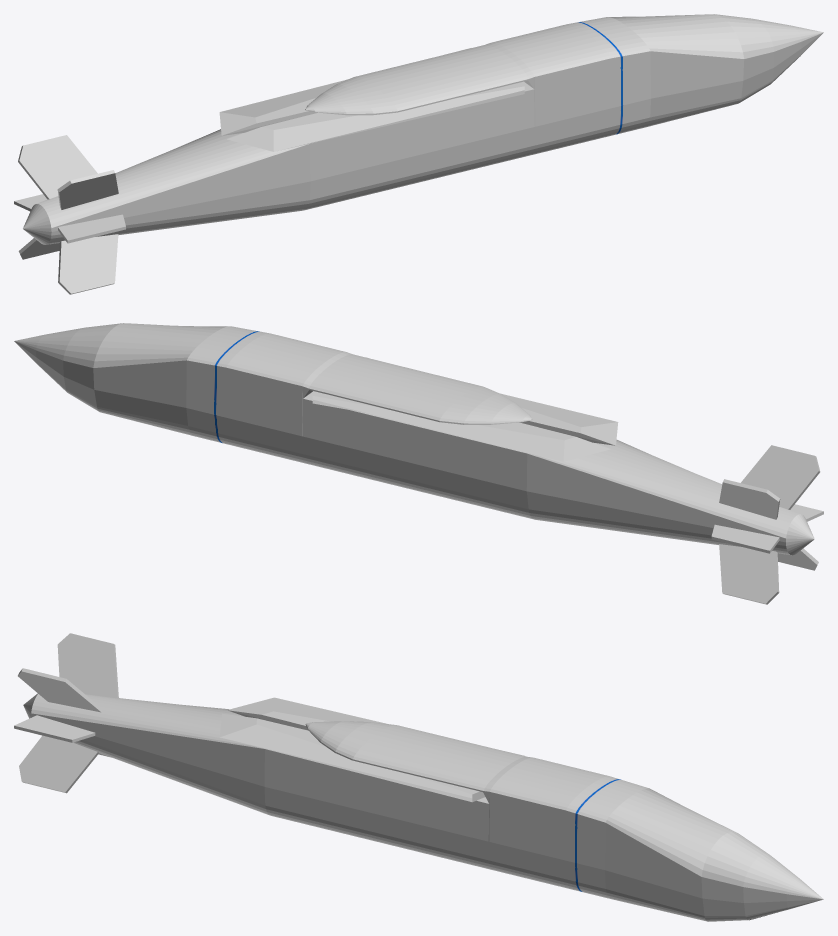
Rendered from f15eagm1543.glb.
The picture shows the model from 3 angles, top to bottom: view 1: azimuth 30°, elevation 25°; view 2: azimuth 150°, elevation 25°; view 3: azimuth 330°, elevation 25°; orthographic projection.
Parts seen in each view (by area): view 1: 立方体.006; view 2: 立方体.006; view 3: 立方体.006.
Boxes of the visible parts, x1,y1,x2,y2 form: 立方体.006: (14,14,823,294); 立方体.006: (14,323,823,604); 立方体.006: (14,633,823,921).
Size of the model in its own units: 5.26 by 0.7224 by 0.6193.
5 materials, 1 textured.
